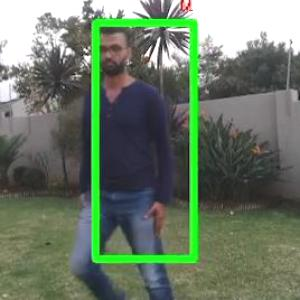follow: (73, 14, 167, 299)
